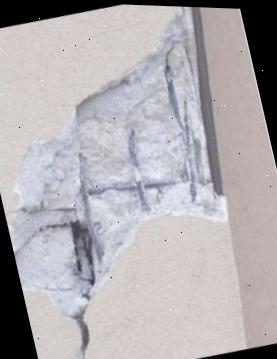spalling: (14, 21, 228, 309)
